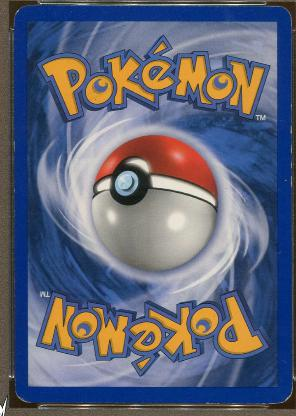Card: (12, 3, 294, 407)
Corner Wear: (12, 5, 39, 28), (265, 382, 291, 404), (14, 376, 32, 404)
Edge Wear: (77, 402, 175, 404), (289, 102, 291, 190), (203, 401, 274, 403), (14, 269, 16, 309), (13, 136, 16, 158), (280, 358, 287, 364), (13, 209, 15, 222), (13, 186, 15, 196)
